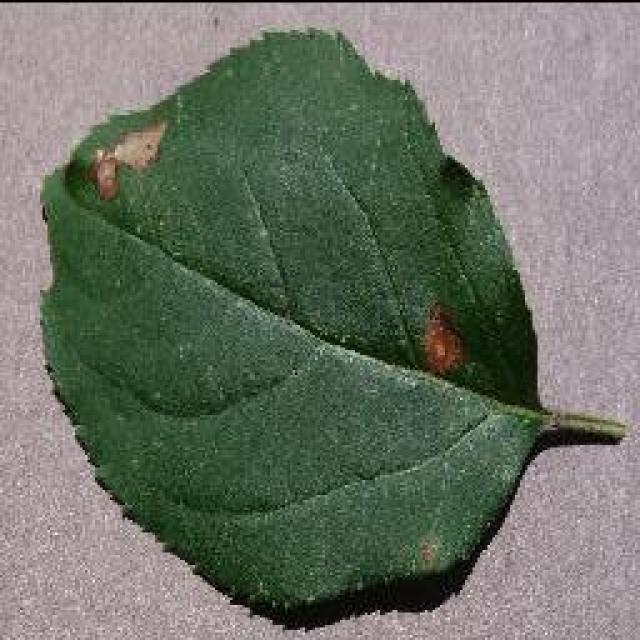apple black rot: (35, 23, 625, 625)
